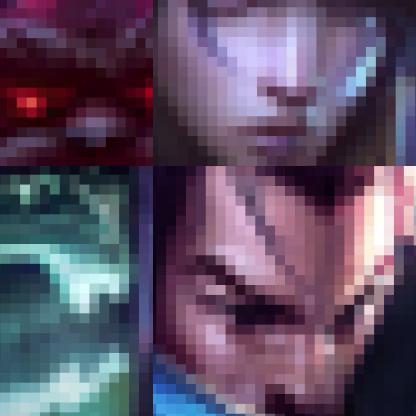Aphelios: (153, 0, 415, 165)
Ornn: (0, 0, 152, 165)
Yasuo: (153, 166, 415, 415)
Yorick: (0, 166, 152, 415)
